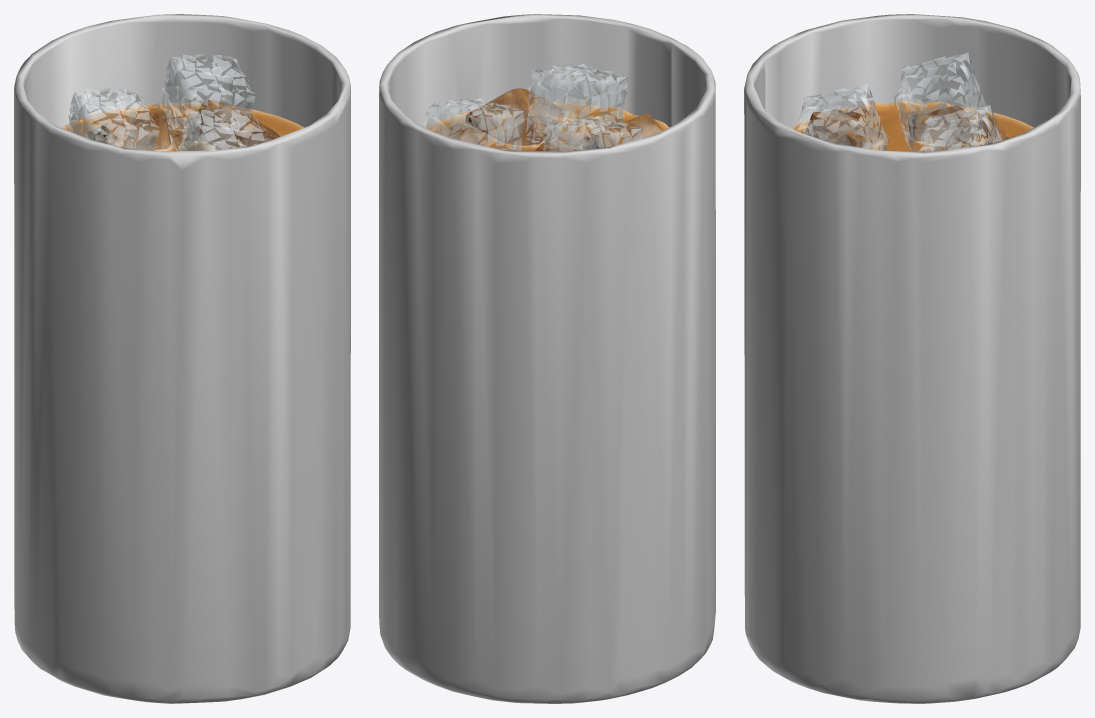
File: iced-latte.glb
3 renders of one model, left to right at view 1: azimuth 30°, elevation 25°; view 2: azimuth 150°, elevation 25°; view 3: azimuth 270°, elevation 25°, orthographic.
Parts seen in each view (by area): view 1: glass, ice-1, latte-liquid; view 2: glass, ice-1, latte-liquid; view 3: glass, ice-1, latte-liquid.
Part boxes in pixels (x1,y1,x2,y2): glass: (14, 14, 350, 703); ice-1: (66, 54, 267, 151); latte-liquid: (61, 100, 304, 151); glass: (379, 14, 715, 703); ice-1: (425, 64, 642, 151); latte-liquid: (425, 88, 668, 151); glass: (744, 14, 1080, 703); ice-1: (794, 53, 1001, 151); latte-liquid: (792, 100, 1033, 151).
Bounding box in the file's own units: 1.05 × 1.9 × 1.05.
Materials: 3 (1 with a texture image).
